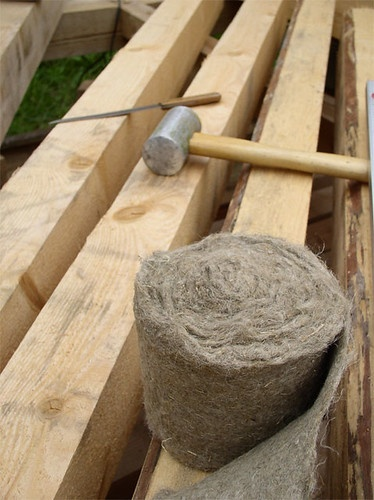hammer: (151, 103, 372, 197)
